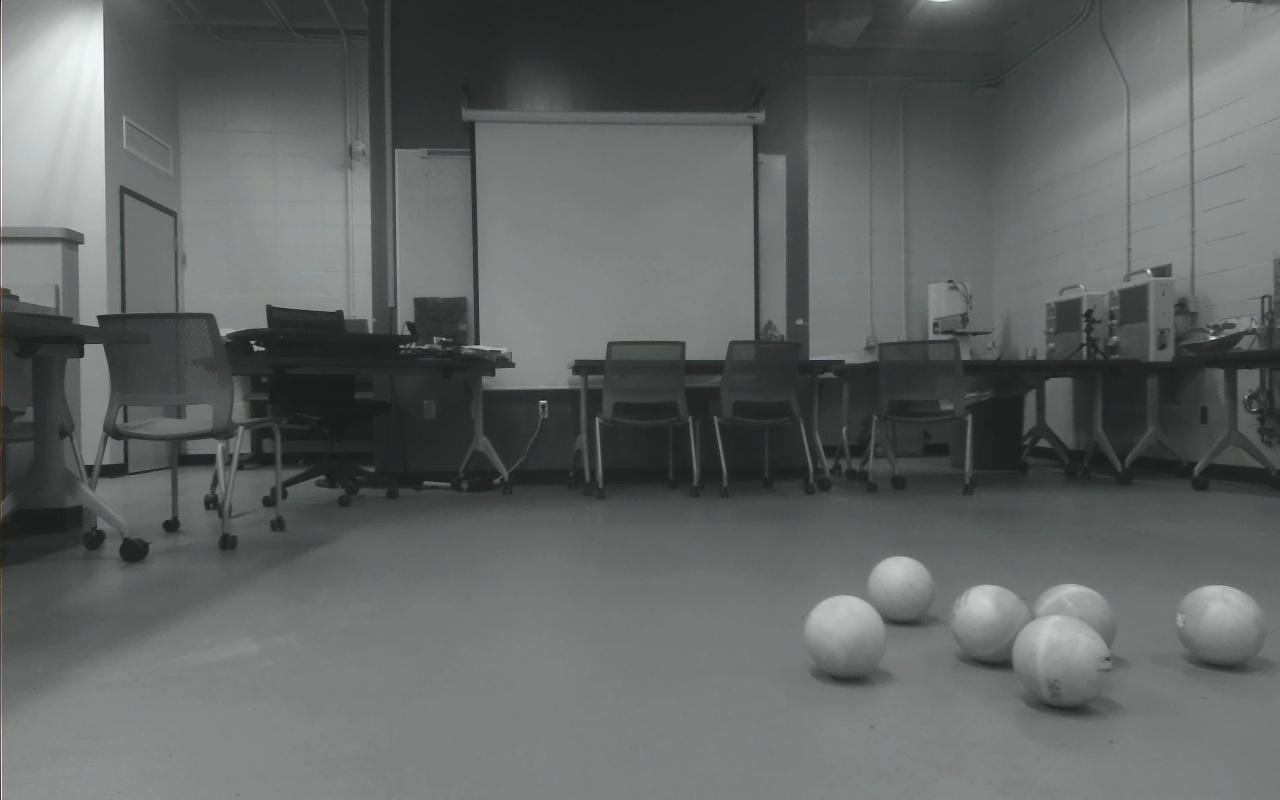Fuel: (1012, 614, 1112, 707), (1175, 585, 1266, 666), (804, 594, 886, 678), (950, 585, 1033, 663), (1033, 583, 1115, 649), (867, 555, 934, 623)
